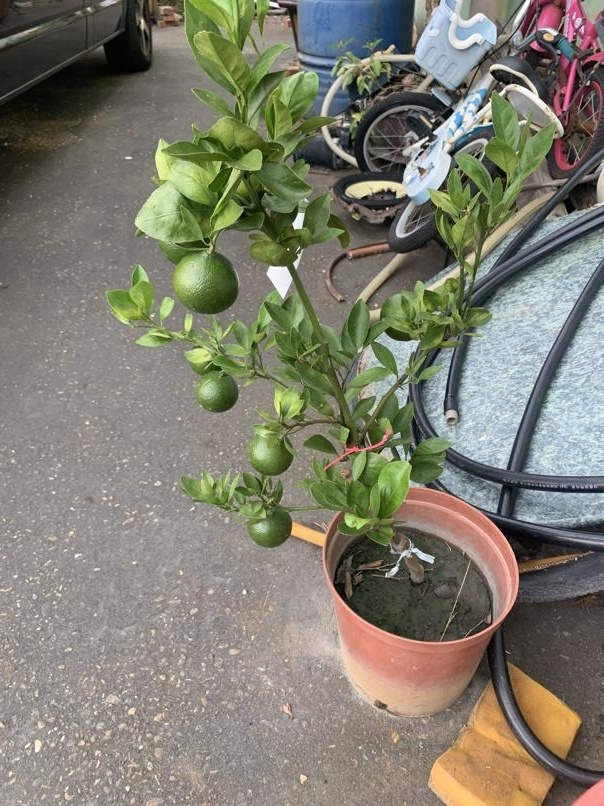Tangerine: (171, 249, 241, 316), (244, 501, 295, 551), (246, 426, 295, 476), (192, 366, 239, 413)
